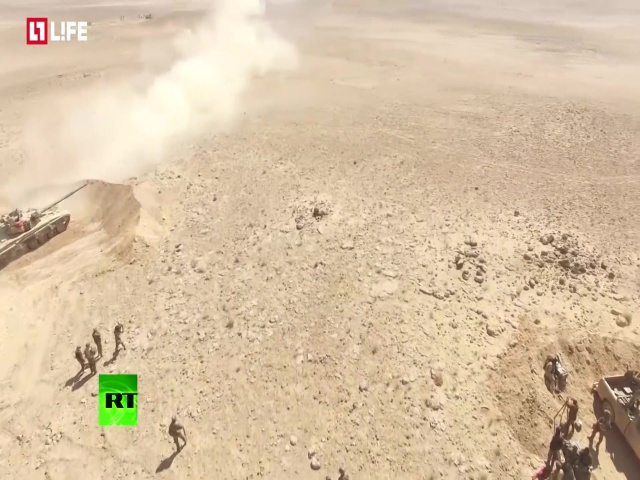person: (588, 409, 612, 447), (168, 415, 187, 453), (546, 425, 562, 466), (565, 396, 579, 436), (111, 321, 126, 356), (91, 327, 105, 358), (84, 340, 96, 374), (74, 343, 84, 380)
vehicle: (1, 202, 71, 271), (591, 369, 640, 458)
